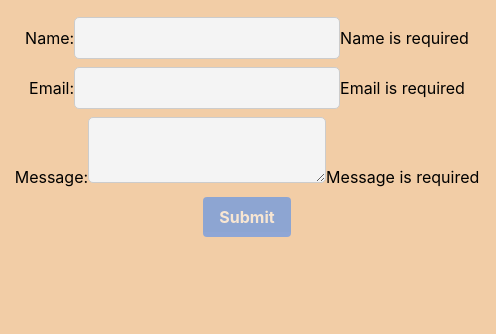
Scenario: submit button should be deactivated when the form is invalid › displays submitted message
This screenshot has width=496, height=334.
Type "John Doe" into the field with test id "name-input" at point(207, 38), box [74,17,340,59]
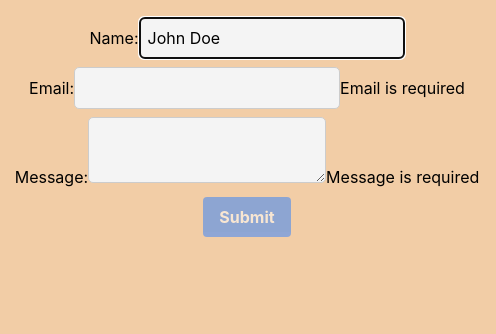
Type "some.mail@gmail.com" into the field with test id "email-input" at point(207, 88), box [74,67,340,109]
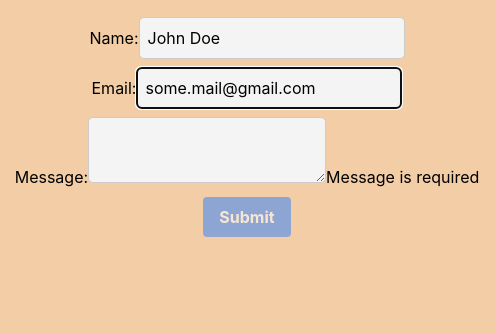
Type "Hello, World" into the text box with test id "message-input" at point(207, 150), box [88,117,326,183]
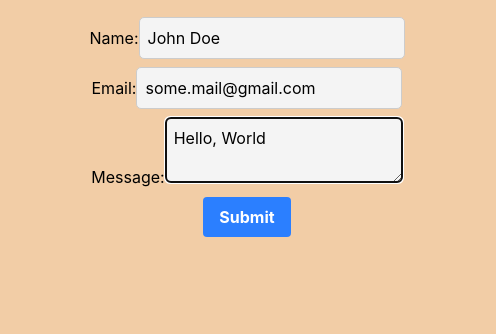
Click the submit button at point(247, 217), box [203,197,290,237]
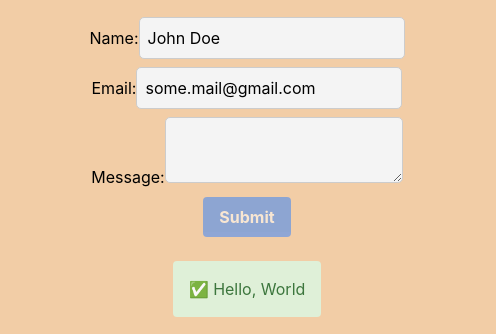
Result: the element with test id "status-message" shows "Hello, World" at [173,261,322,317]
